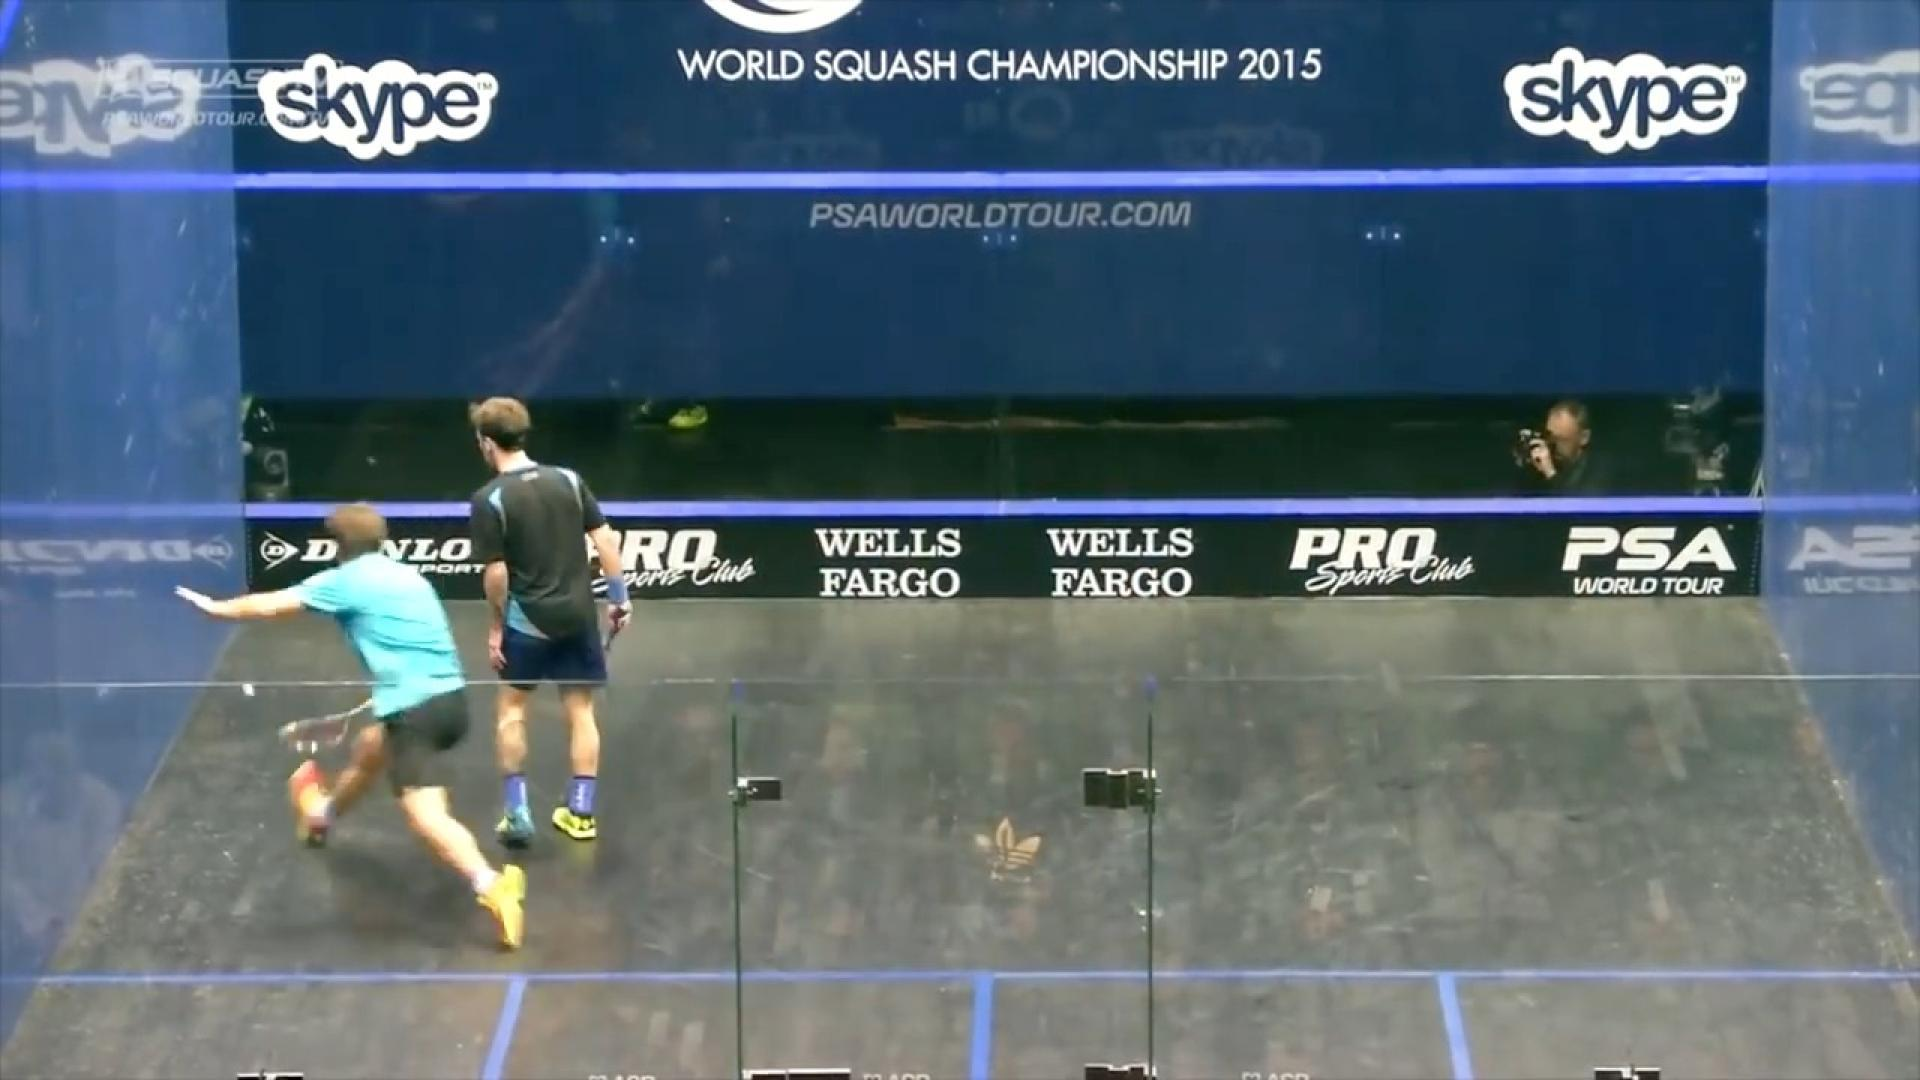Squash-Ball: (229, 673, 270, 709)
